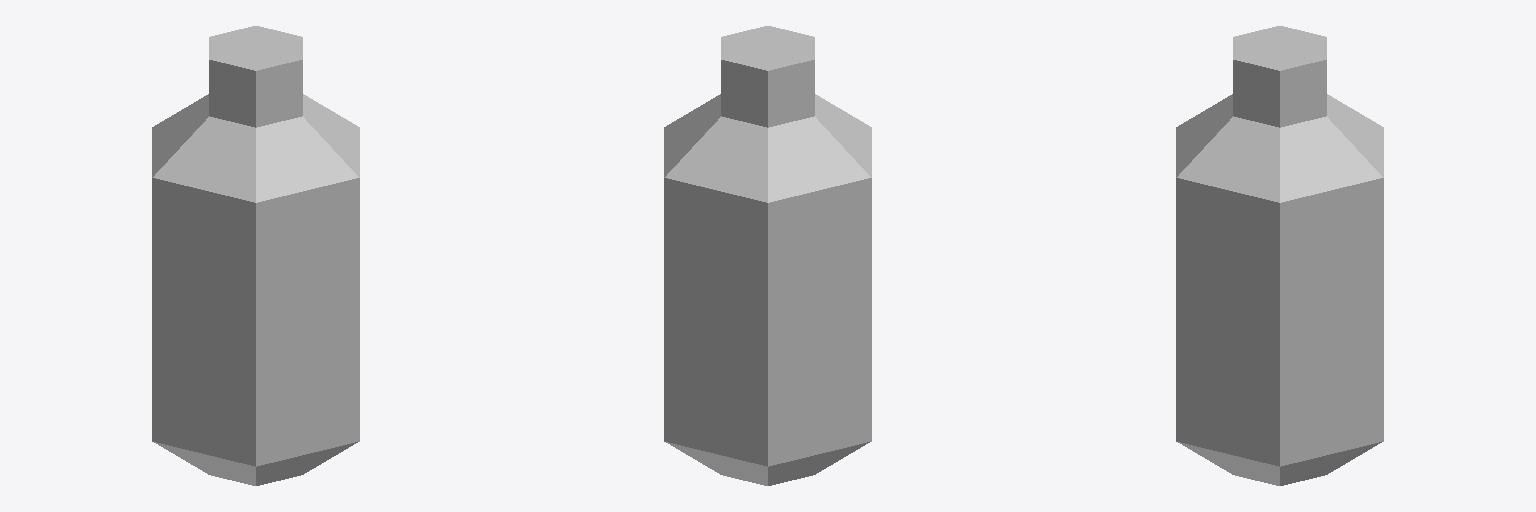
File: Fuel.obj
3 views of the same model, side by side, from view 1: azimuth 30°, elevation 25°; view 2: azimuth 150°, elevation 25°; view 3: azimuth 270°, elevation 25° (orthographic).
Visible parts, largest first — view 1: Cylinder.029_Cylinder.026; view 2: Cylinder.029_Cylinder.026; view 3: Cylinder.029_Cylinder.026.
Boxes of the visible parts, x1=… form: Cylinder.029_Cylinder.026: x1=152, y1=26, x2=359, y2=485; Cylinder.029_Cylinder.026: x1=664, y1=26, x2=871, y2=485; Cylinder.029_Cylinder.026: x1=1176, y1=26, x2=1383, y2=485.
Size of the model in its own units: 1.46 by 2.8 by 1.26.